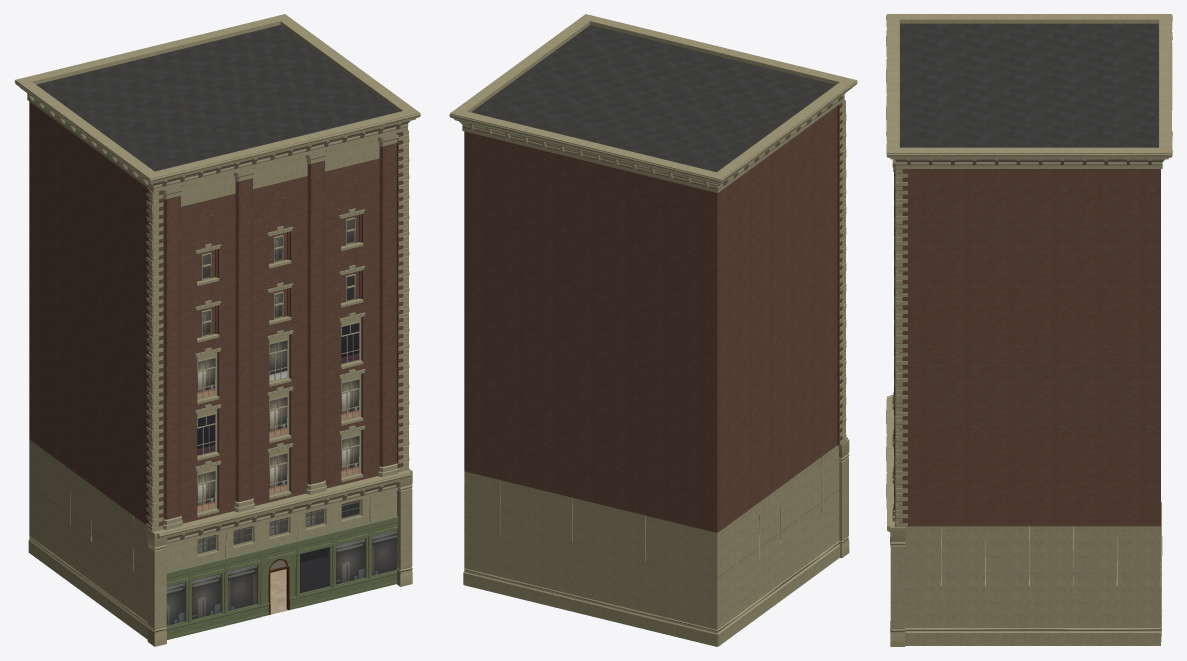
The model's file is midrise.glb.
3 views of the same model, side by side, from view 1: azimuth 30°, elevation 25°; view 2: azimuth 150°, elevation 25°; view 3: azimuth 270°, elevation 25° (orthographic). The views are drawn at different scales.
Visible parts, largest first — view 1: Building_Medium_2.001; view 2: Building_Medium_2.001; view 3: Building_Medium_2.001.
Part boxes in pixels (x1,y1,x2,y2): Building_Medium_2.001: (14,14,420,646); Building_Medium_2.001: (449,14,857,646); Building_Medium_2.001: (886,14,1172,646).
Bounding box in the file's own units: 17.21 × 28.58 × 14.92.
Materials: 10 (9 with a texture image).
